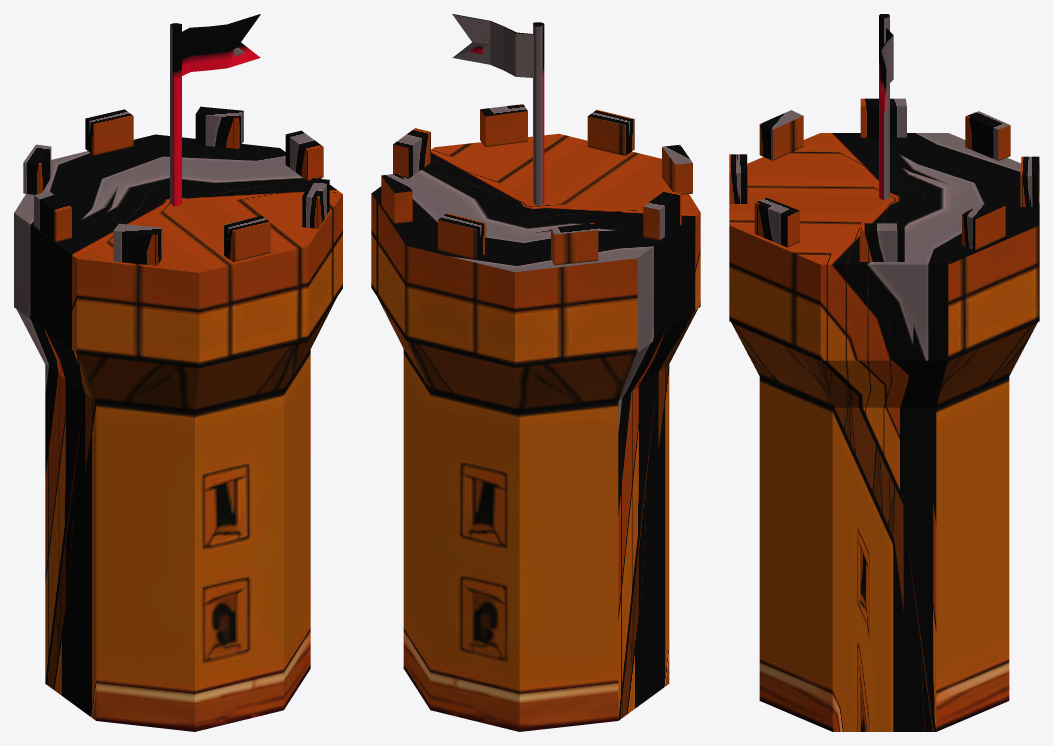
File: WTower.glb
3 renders of one model, left to right at view 1: azimuth 30°, elevation 25°; view 2: azimuth 150°, elevation 25°; view 3: azimuth 270°, elevation 25°, orthographic.
Parts seen in each view (by area): view 1: WTower; view 2: WTower; view 3: WTower.
Boxes of the visible parts, left/top/right/bottom form: WTower: left=14, top=14, right=342, bottom=731; WTower: left=371, top=14, right=700, bottom=731; WTower: left=729, top=14, right=1039, bottom=731.
Size of the model in its own units: 279 by 651 by 277.
1 material, 1 textured.
